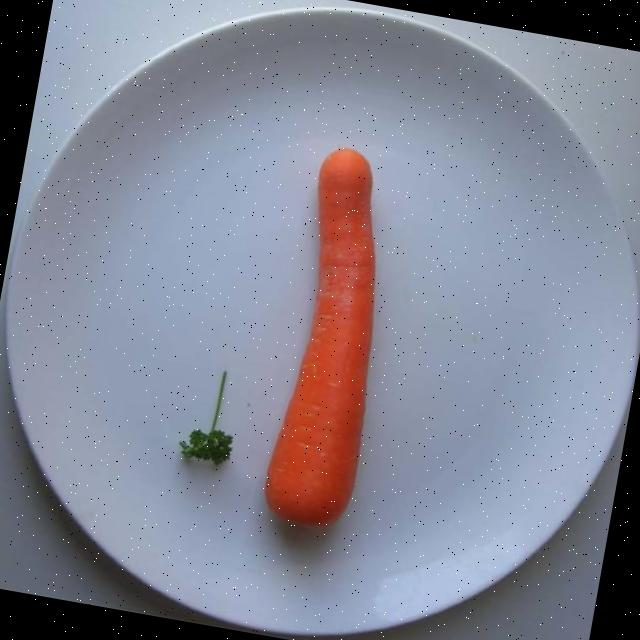carrot: (263, 148, 374, 526)
